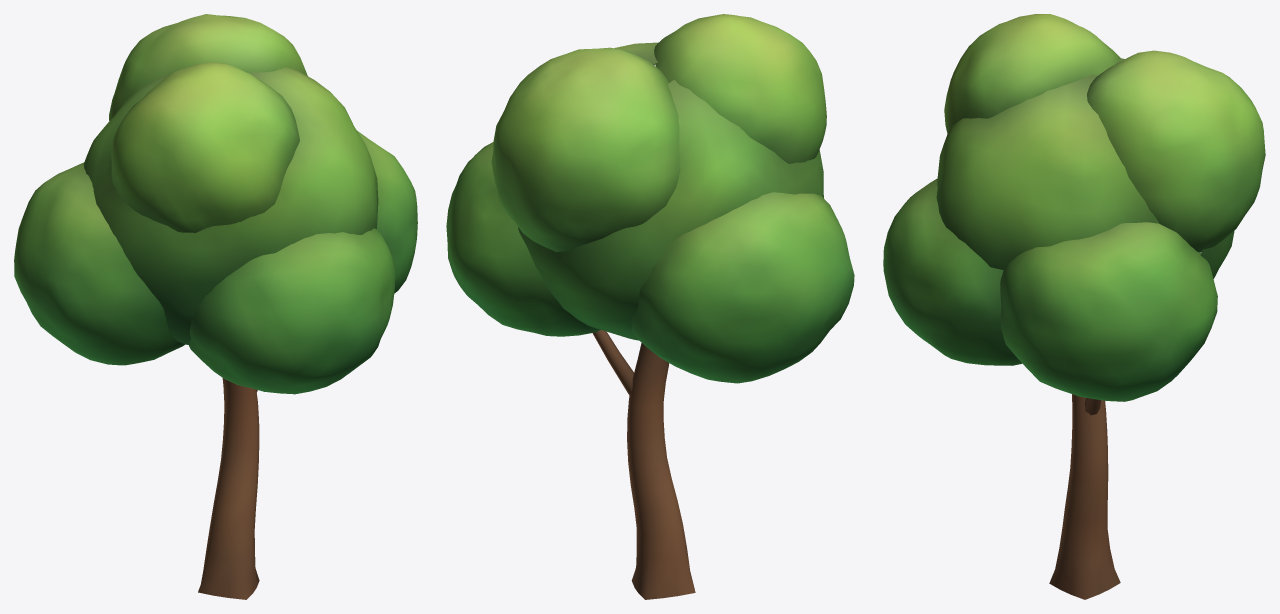
File: tree_round_a.glb
3 renders of one model, left to right at view 1: azimuth 30°, elevation 25°; view 2: azimuth 150°, elevation 25°; view 3: azimuth 270°, elevation 25°, orthographic. The views are drawn at different scales.
Parts seen in each view (by area): view 1: tree_round_a; view 2: tree_round_a; view 3: tree_round_a.
Boxes of the visible parts, left/top/right/bottom form: tree_round_a: left=14, top=14, right=417, bottom=599; tree_round_a: left=446, top=14, right=854, bottom=599; tree_round_a: left=883, top=14, right=1265, bottom=599.
Size of the model in its own units: 3.02 by 4.27 by 2.72.
